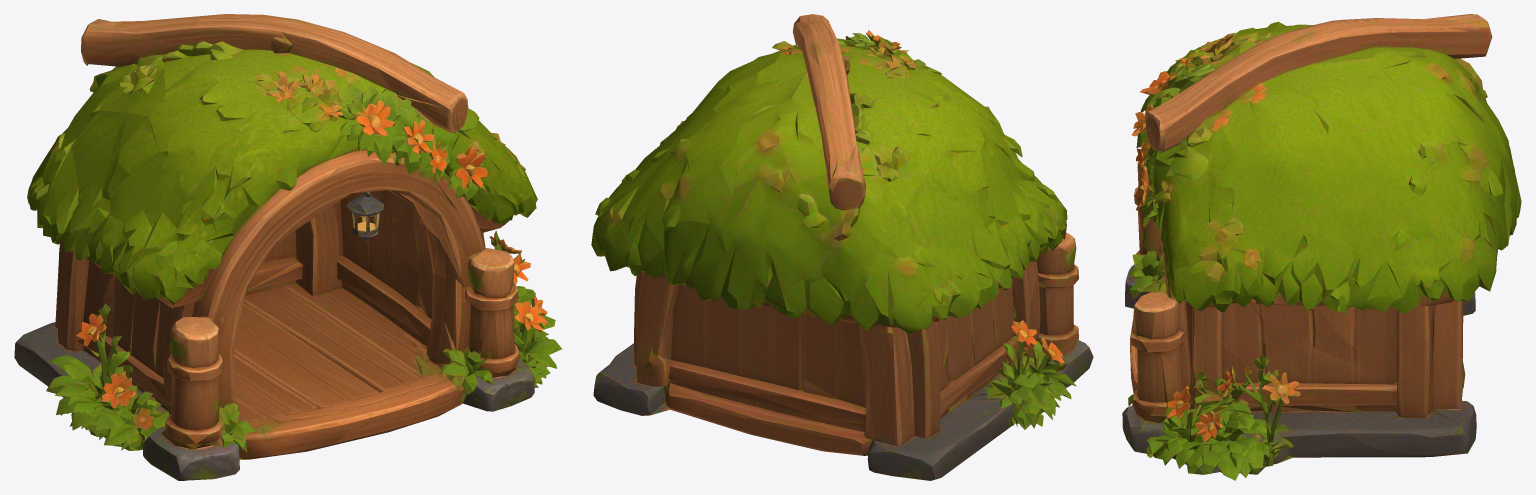
File: mossflower-hollow.glb
3 views of the same model, side by side, from view 1: azimuth 30°, elevation 25°; view 2: azimuth 150°, elevation 25°; view 3: azimuth 270°, elevation 25° (orthographic). The views are drawn at different scales.
Parts seen in each view (by area): view 1: output_unwrapped; view 2: output_unwrapped; view 3: output_unwrapped.
Part boxes in pixels (x1,y1,x2,y2): output_unwrapped: [14, 14, 561, 480]; output_unwrapped: [591, 14, 1093, 480]; output_unwrapped: [1122, 14, 1521, 480].
Size of the model in its own units: 1.9 by 1.37 by 1.44.
Materials: 1 (1 with a texture image).
